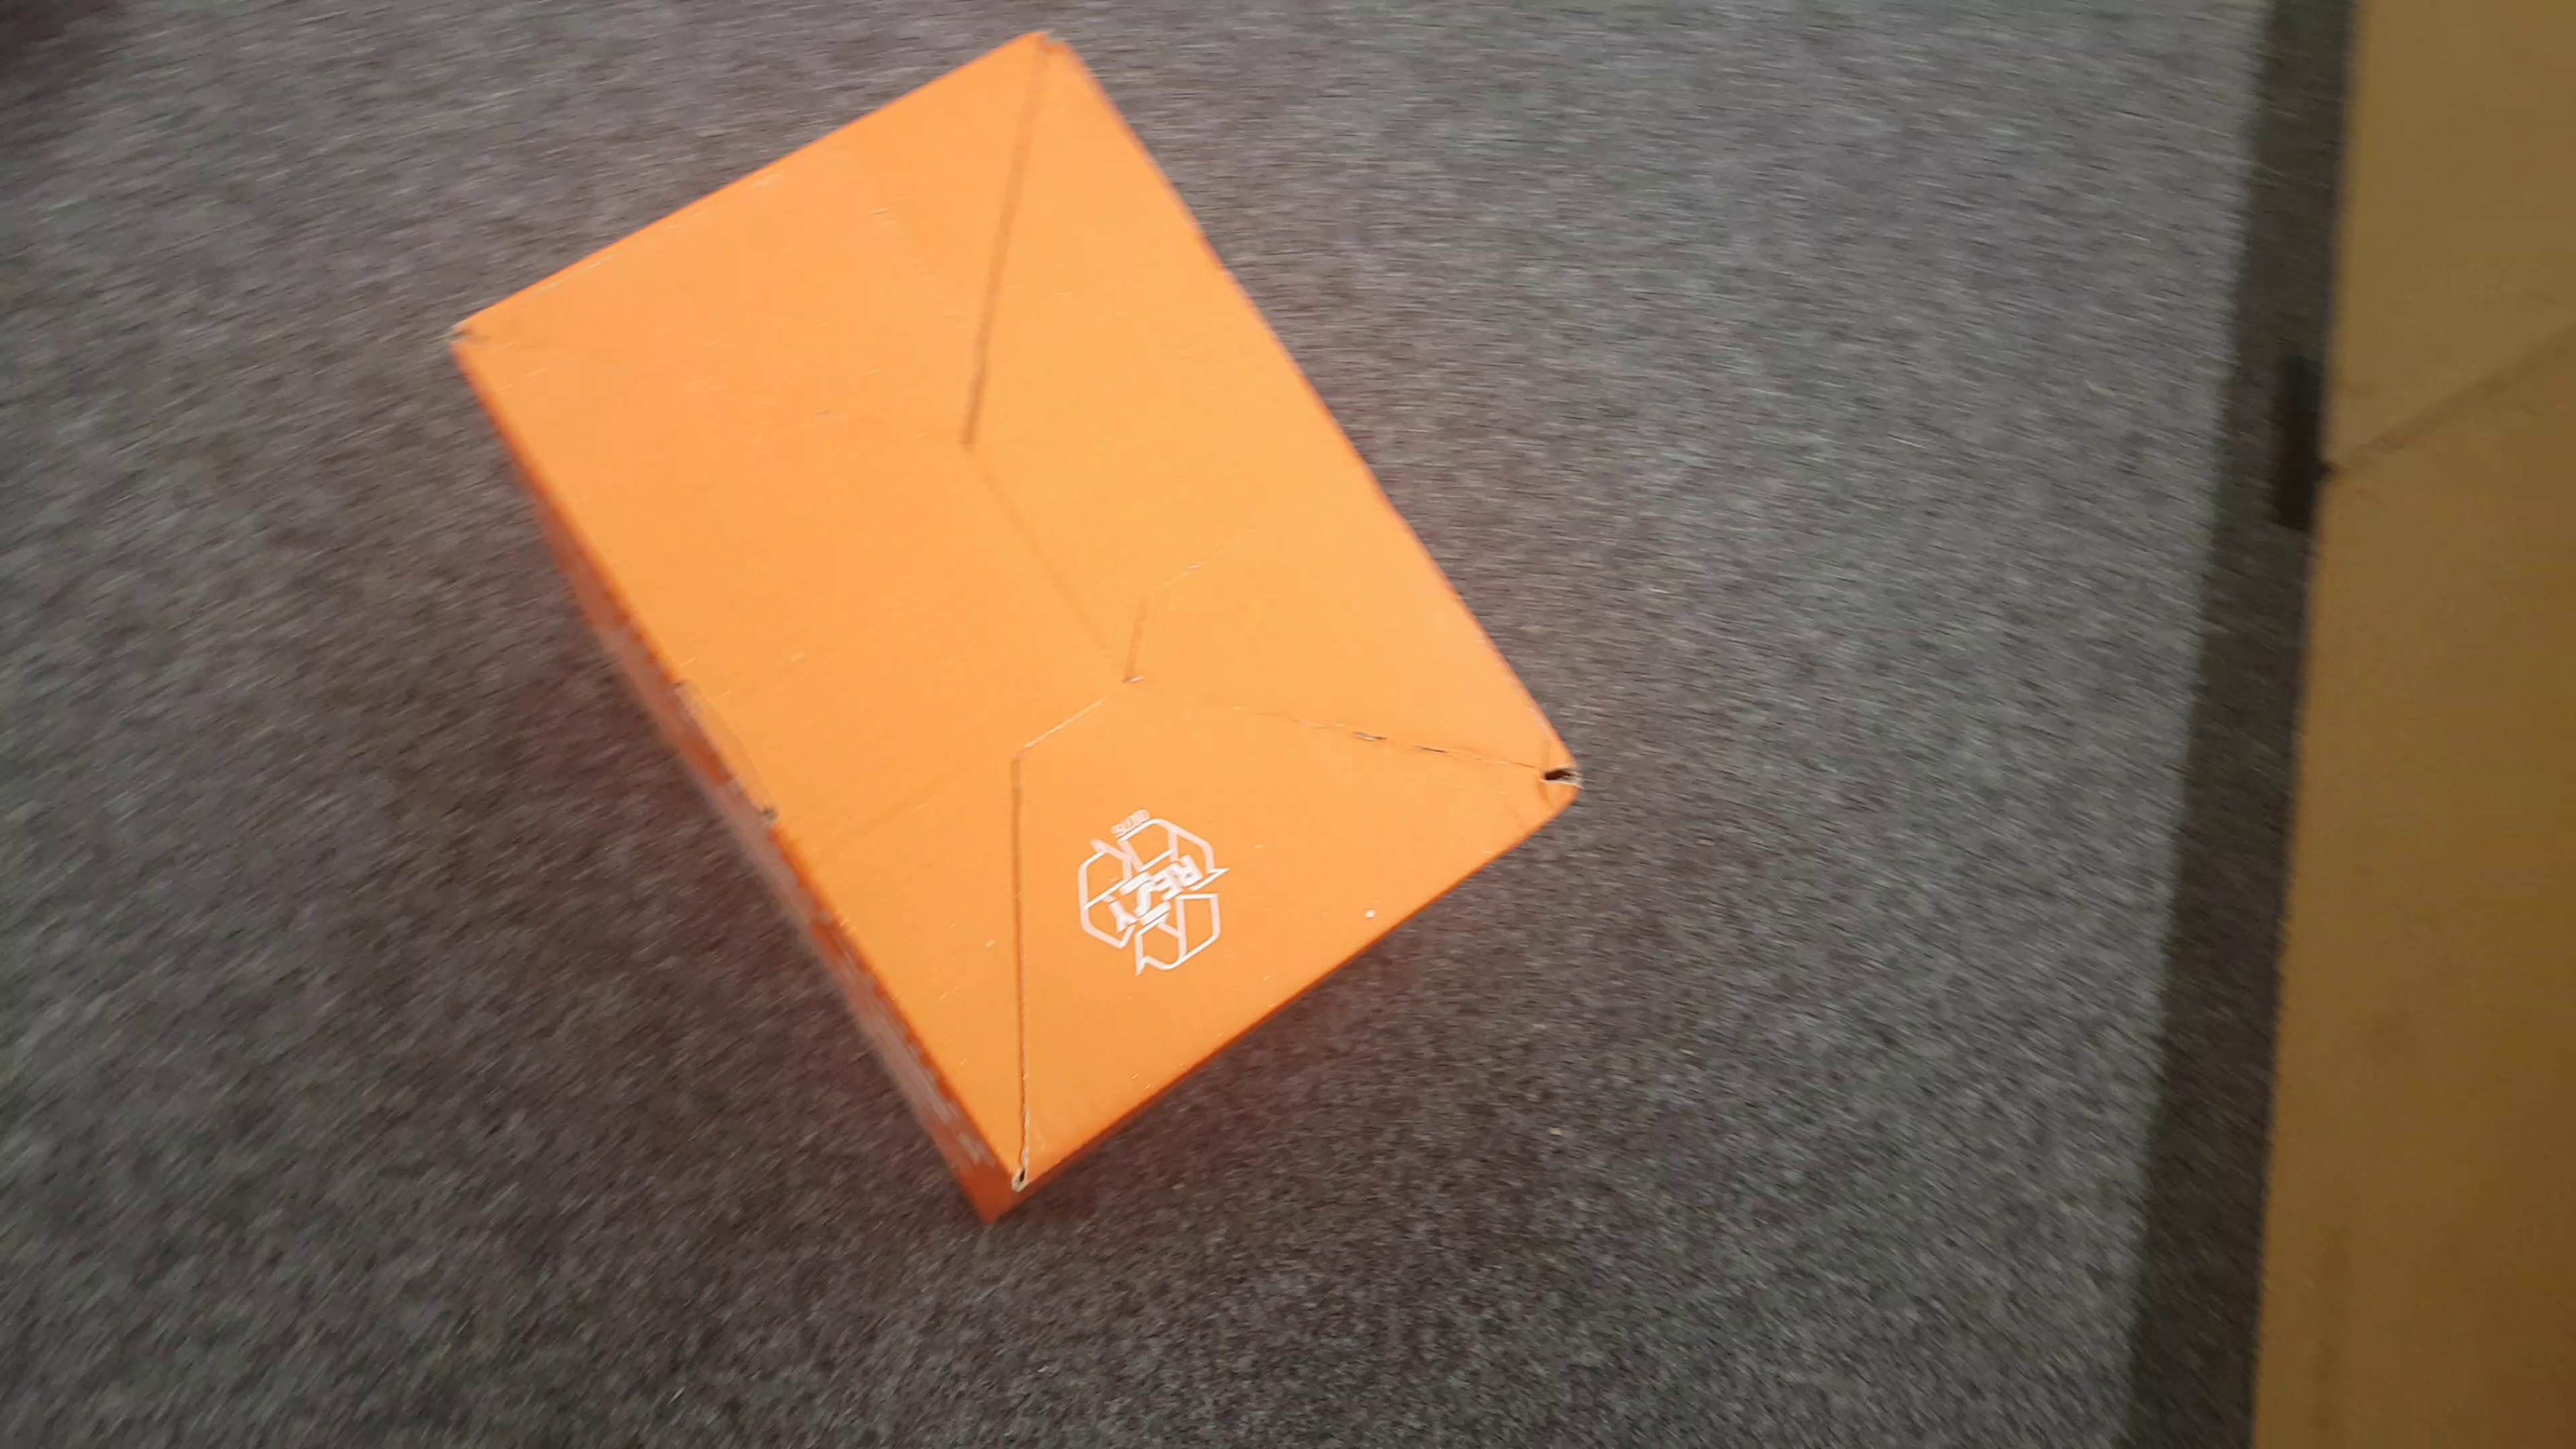push: (458, 28, 1585, 1228)
